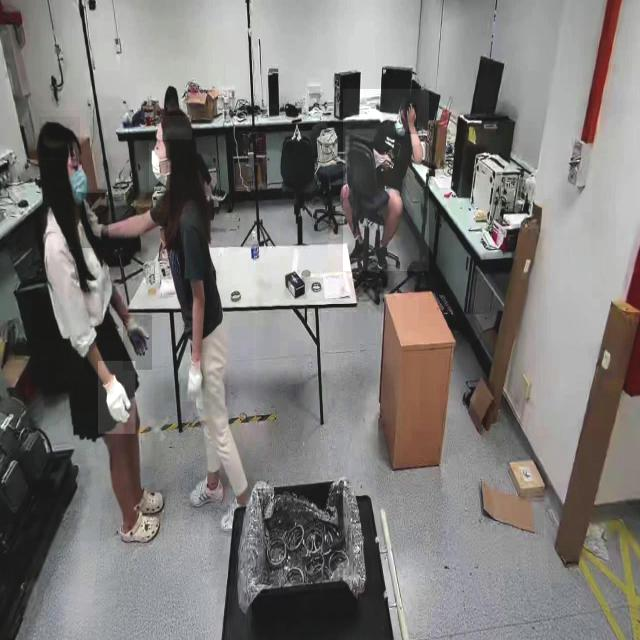face_mask: (59, 145, 95, 211), (149, 142, 169, 190)
hand_glove: (98, 361, 136, 435), (123, 314, 153, 370), (82, 193, 108, 248), (180, 353, 208, 403)
hand_noglove: (405, 100, 417, 124), (408, 105, 417, 134)
head_nohelmet: (40, 116, 80, 158), (156, 116, 192, 140), (400, 95, 418, 120), (165, 85, 178, 102)
person: (18, 110, 161, 542), (143, 108, 255, 536), (343, 89, 429, 272)
shoes: (186, 469, 228, 515), (208, 174, 226, 211)
